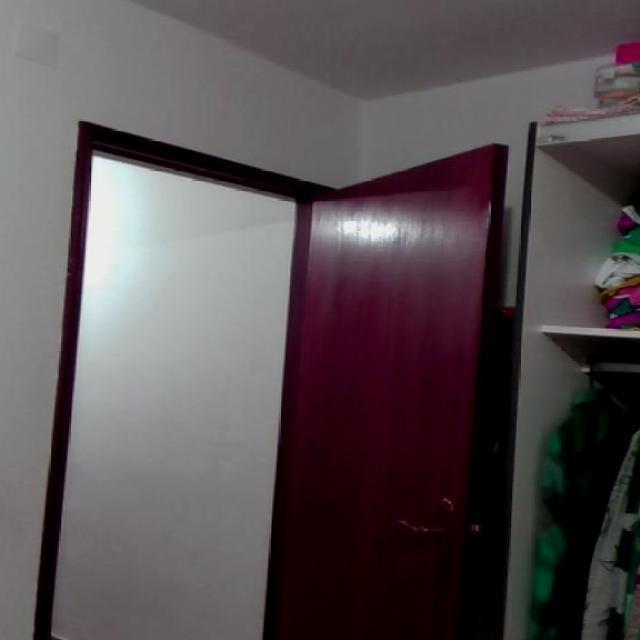door: (274, 139, 498, 640)
